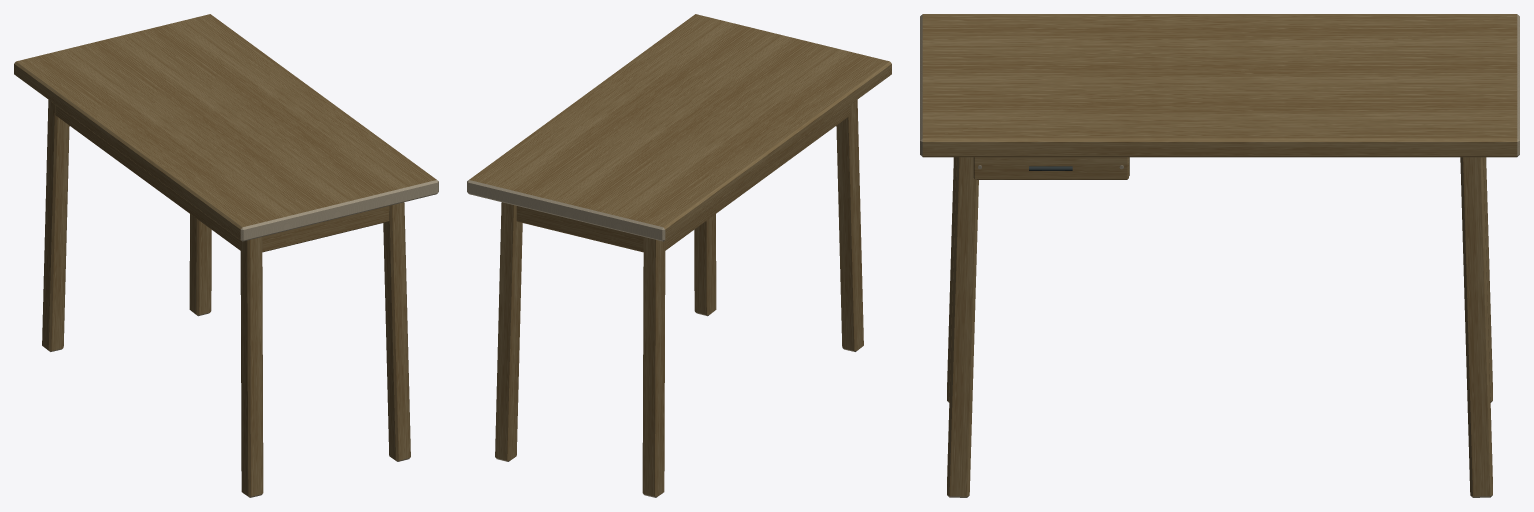
3 views of the same model, side by side, from view 1: azimuth 30°, elevation 25°; view 2: azimuth 150°, elevation 25°; view 3: azimuth 270°, elevation 25° (orthographic). The views are drawn at different scales.
Visible parts, largest first — view 1: Mesh_warm, Mesh_endgrain; view 2: Mesh_warm, Mesh_endgrain; view 3: Mesh_warm, Mesh_endgrain.
Part boxes in pixels (left/top/right/bottom): Mesh_warm: left=14, top=14, right=436, bottom=496; Mesh_endgrain: left=44, top=180, right=438, bottom=497; Mesh_warm: left=469, top=14, right=891, bottom=496; Mesh_endgrain: left=467, top=180, right=861, bottom=497; Mesh_warm: left=922, top=14, right=1517, bottom=496; Mesh_endgrain: left=920, top=14, right=1519, bottom=497.
Size of the model in its own units: 0.55 by 0.7506 by 1.1.
3 materials, 2 textured.
